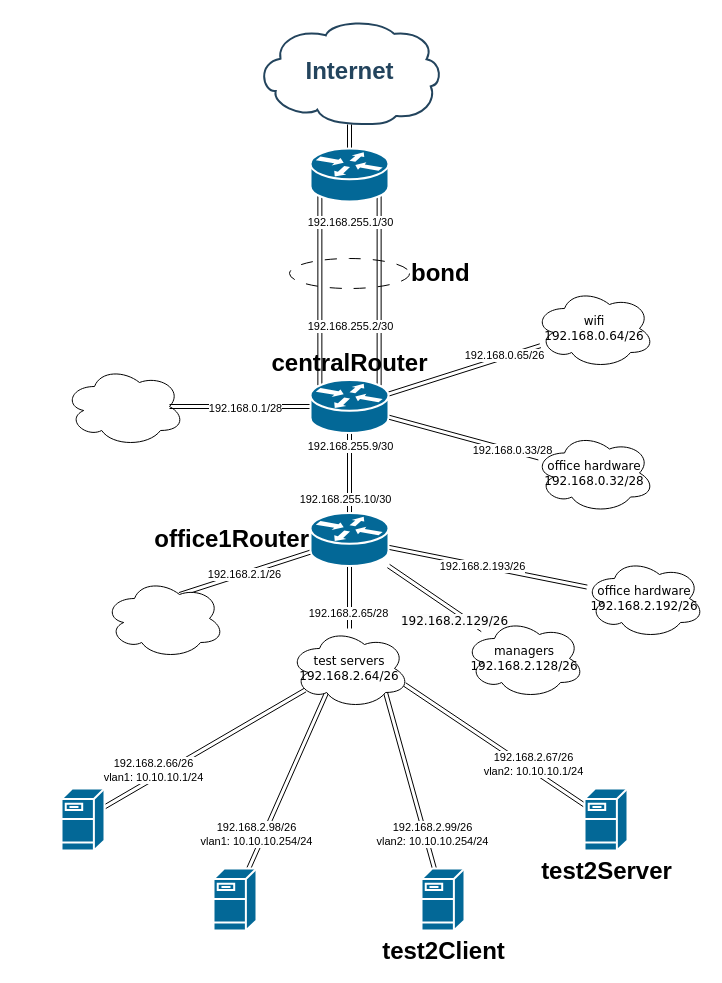
The diagram is 722 pixels wide and 983 high, and some of its shapes have lost their labels. Here are the shapes that lost their labels. From the top down, the centre of each, then its label:
At [349,174]: "inetRouter".
At [124,406]: "directors 192.168.0.0/28".
At [164,618]: "dev 192.168.2.0/26".
At [82,819]: "test1Server".
At [234,899]: "test1Client".
